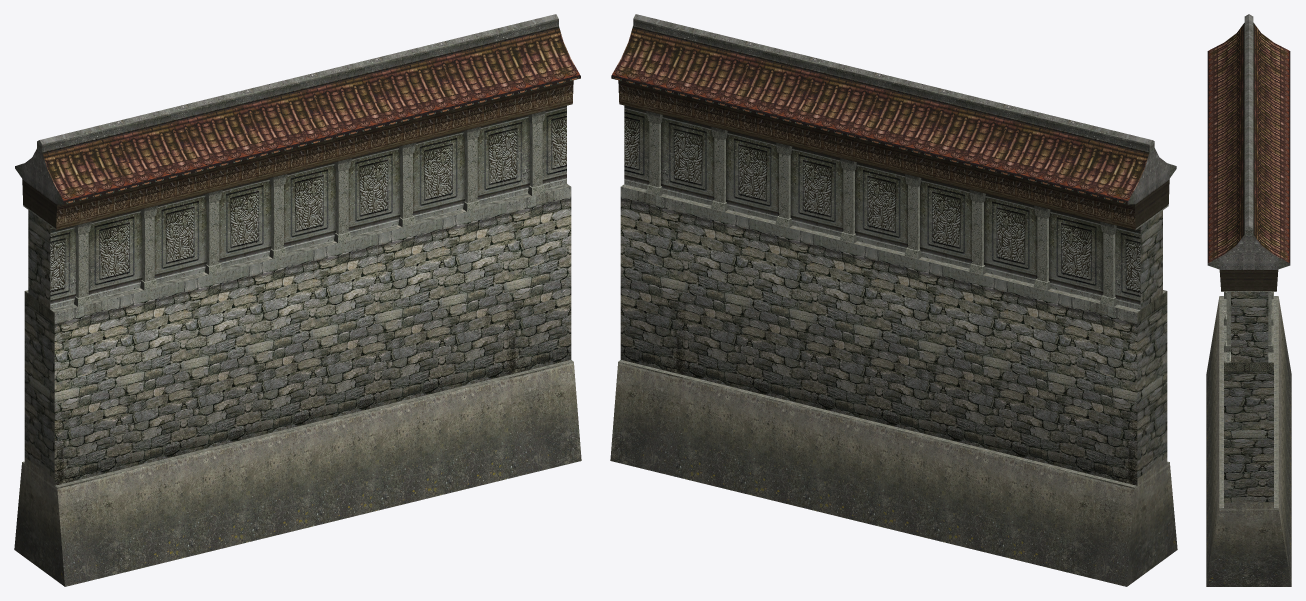
File: a1-middledam-02.fbx
The picture shows the model from 3 angles, left to right: view 1: azimuth 30°, elevation 25°; view 2: azimuth 150°, elevation 25°; view 3: azimuth 270°, elevation 25°; orthographic projection. The views are drawn at different scales.
Parts seen in each view (by area): view 1: b1-middledam-02; view 2: b1-middledam-02; view 3: b1-middledam-02.
Part boxes in pixels (box(x1,y1,x2,y2)): b1-middledam-02: box(14, 14, 581, 586); b1-middledam-02: box(610, 14, 1177, 586); b1-middledam-02: box(1206, 14, 1291, 586).
Bounding box in the file's own units: 10 × 7.92 × 1.7.
